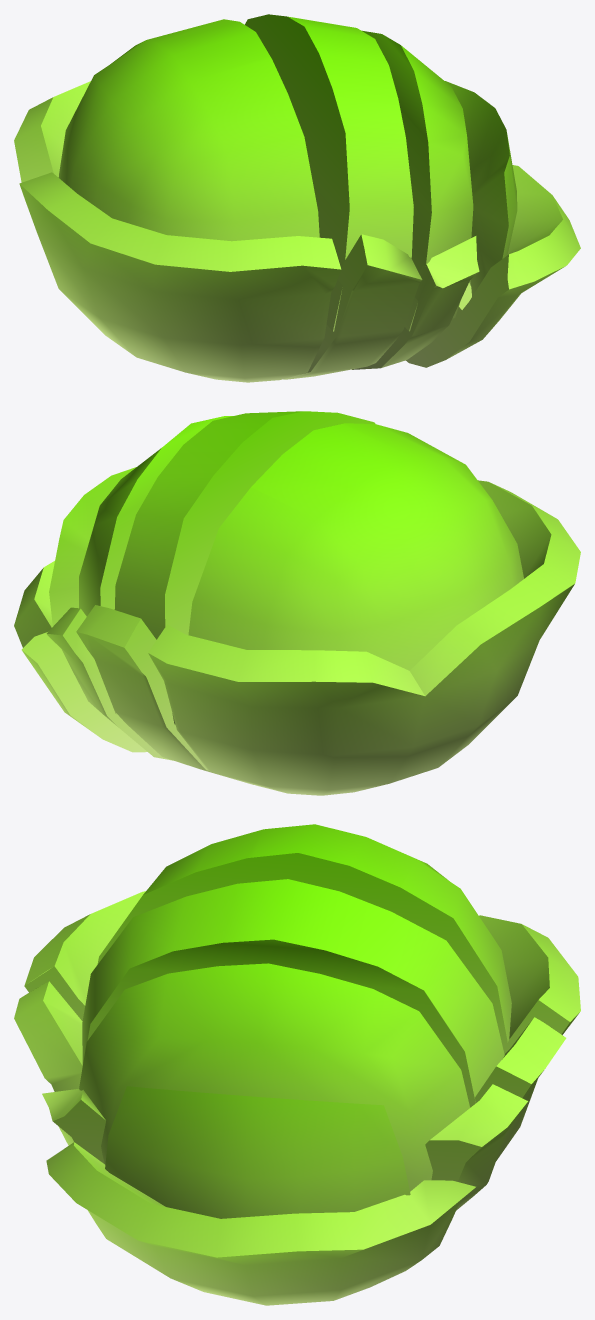
Rendered from Lettuce_01_S3.fbx.
3 renders of one model, top to bottom at view 1: azimuth 30°, elevation 25°; view 2: azimuth 150°, elevation 25°; view 3: azimuth 270°, elevation 25°, orthographic. The views are drawn at different scales.
Parts seen in each view (by area): view 1: Lettuce_01_S3; view 2: Lettuce_01_S3; view 3: Lettuce_01_S3.
Part boxes in pixels (bbox=[...]): Lettuce_01_S3: bbox=[14, 14, 580, 382]; Lettuce_01_S3: bbox=[14, 411, 580, 795]; Lettuce_01_S3: bbox=[14, 824, 580, 1305].
Bounding box in the file's own units: 71.02 × 46.55 × 63.77.
